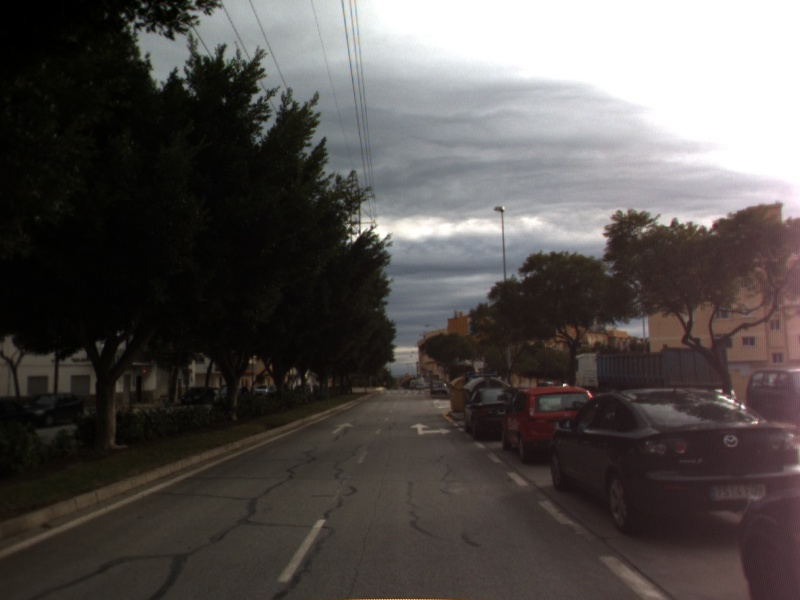STRAIGHT: (329, 420, 356, 436)
STRAIGHT_RIGHT: (407, 421, 454, 437)
